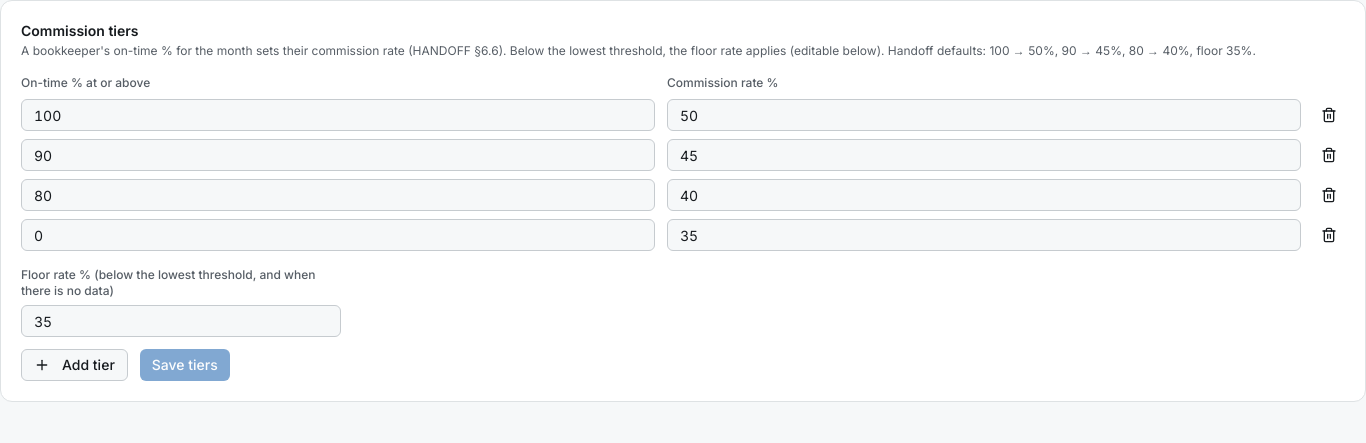
Test: CommissionTiersEditor › blocks save with an inline alert when ordering is invalid
Replace the text in the field named "Tier 1 on-time percent threshold" with "50" at (338, 115), box [21, 99, 655, 131]
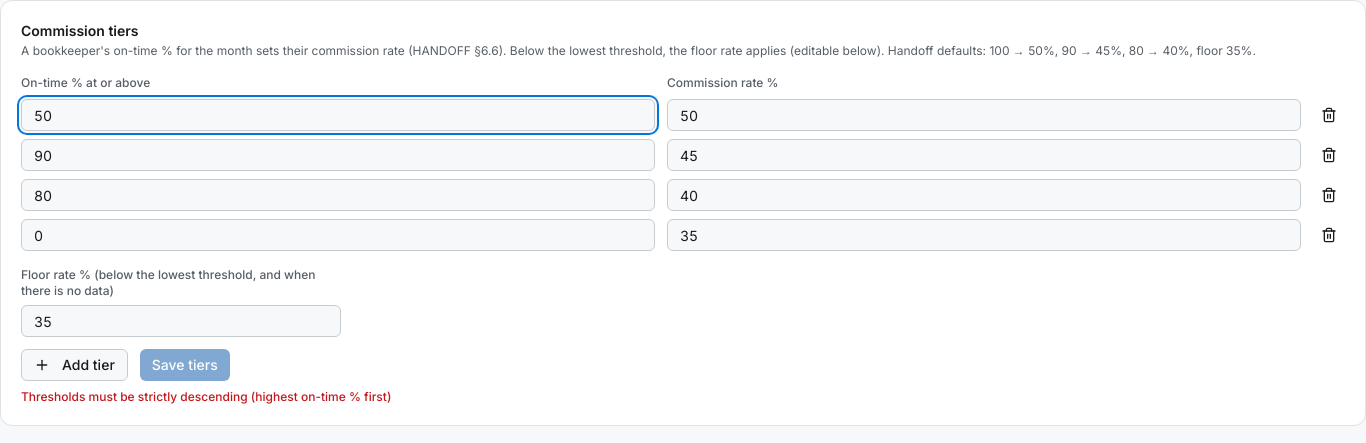
Expected: the button "Save tiers" is disabled, [140, 349, 230, 381]
Now the message shows "strictly descending", box [21, 389, 391, 404]
